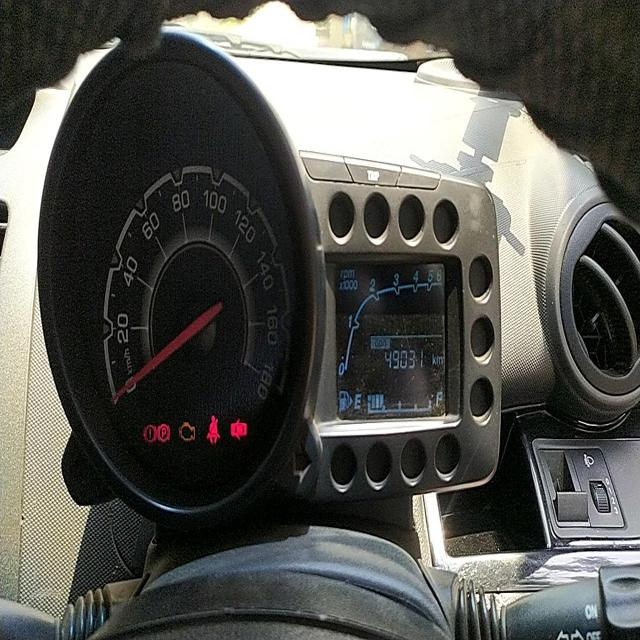odometer: (382, 345, 426, 373)
